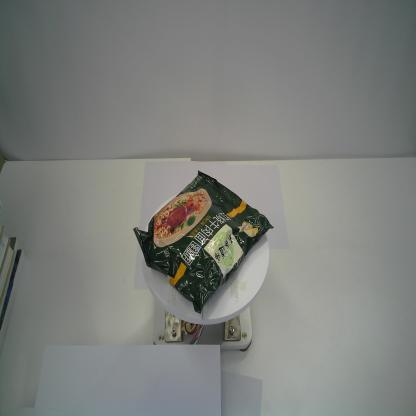Instant Noodles: (133, 170, 274, 314)
